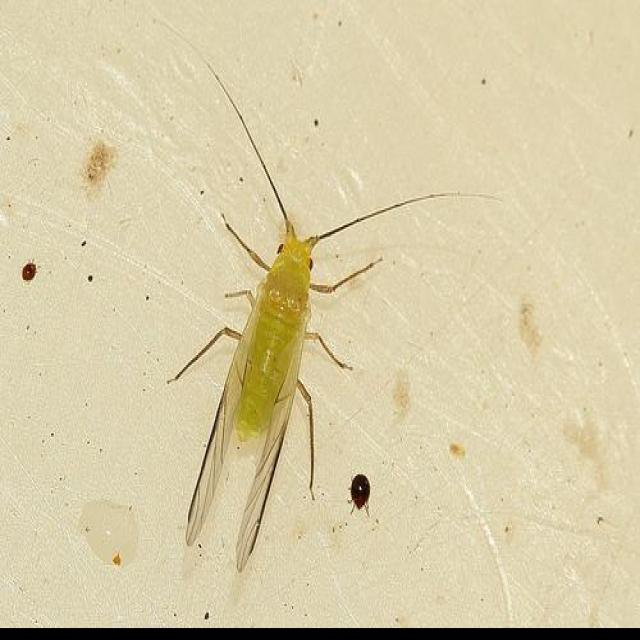Aphids: (123, 70, 441, 558)
